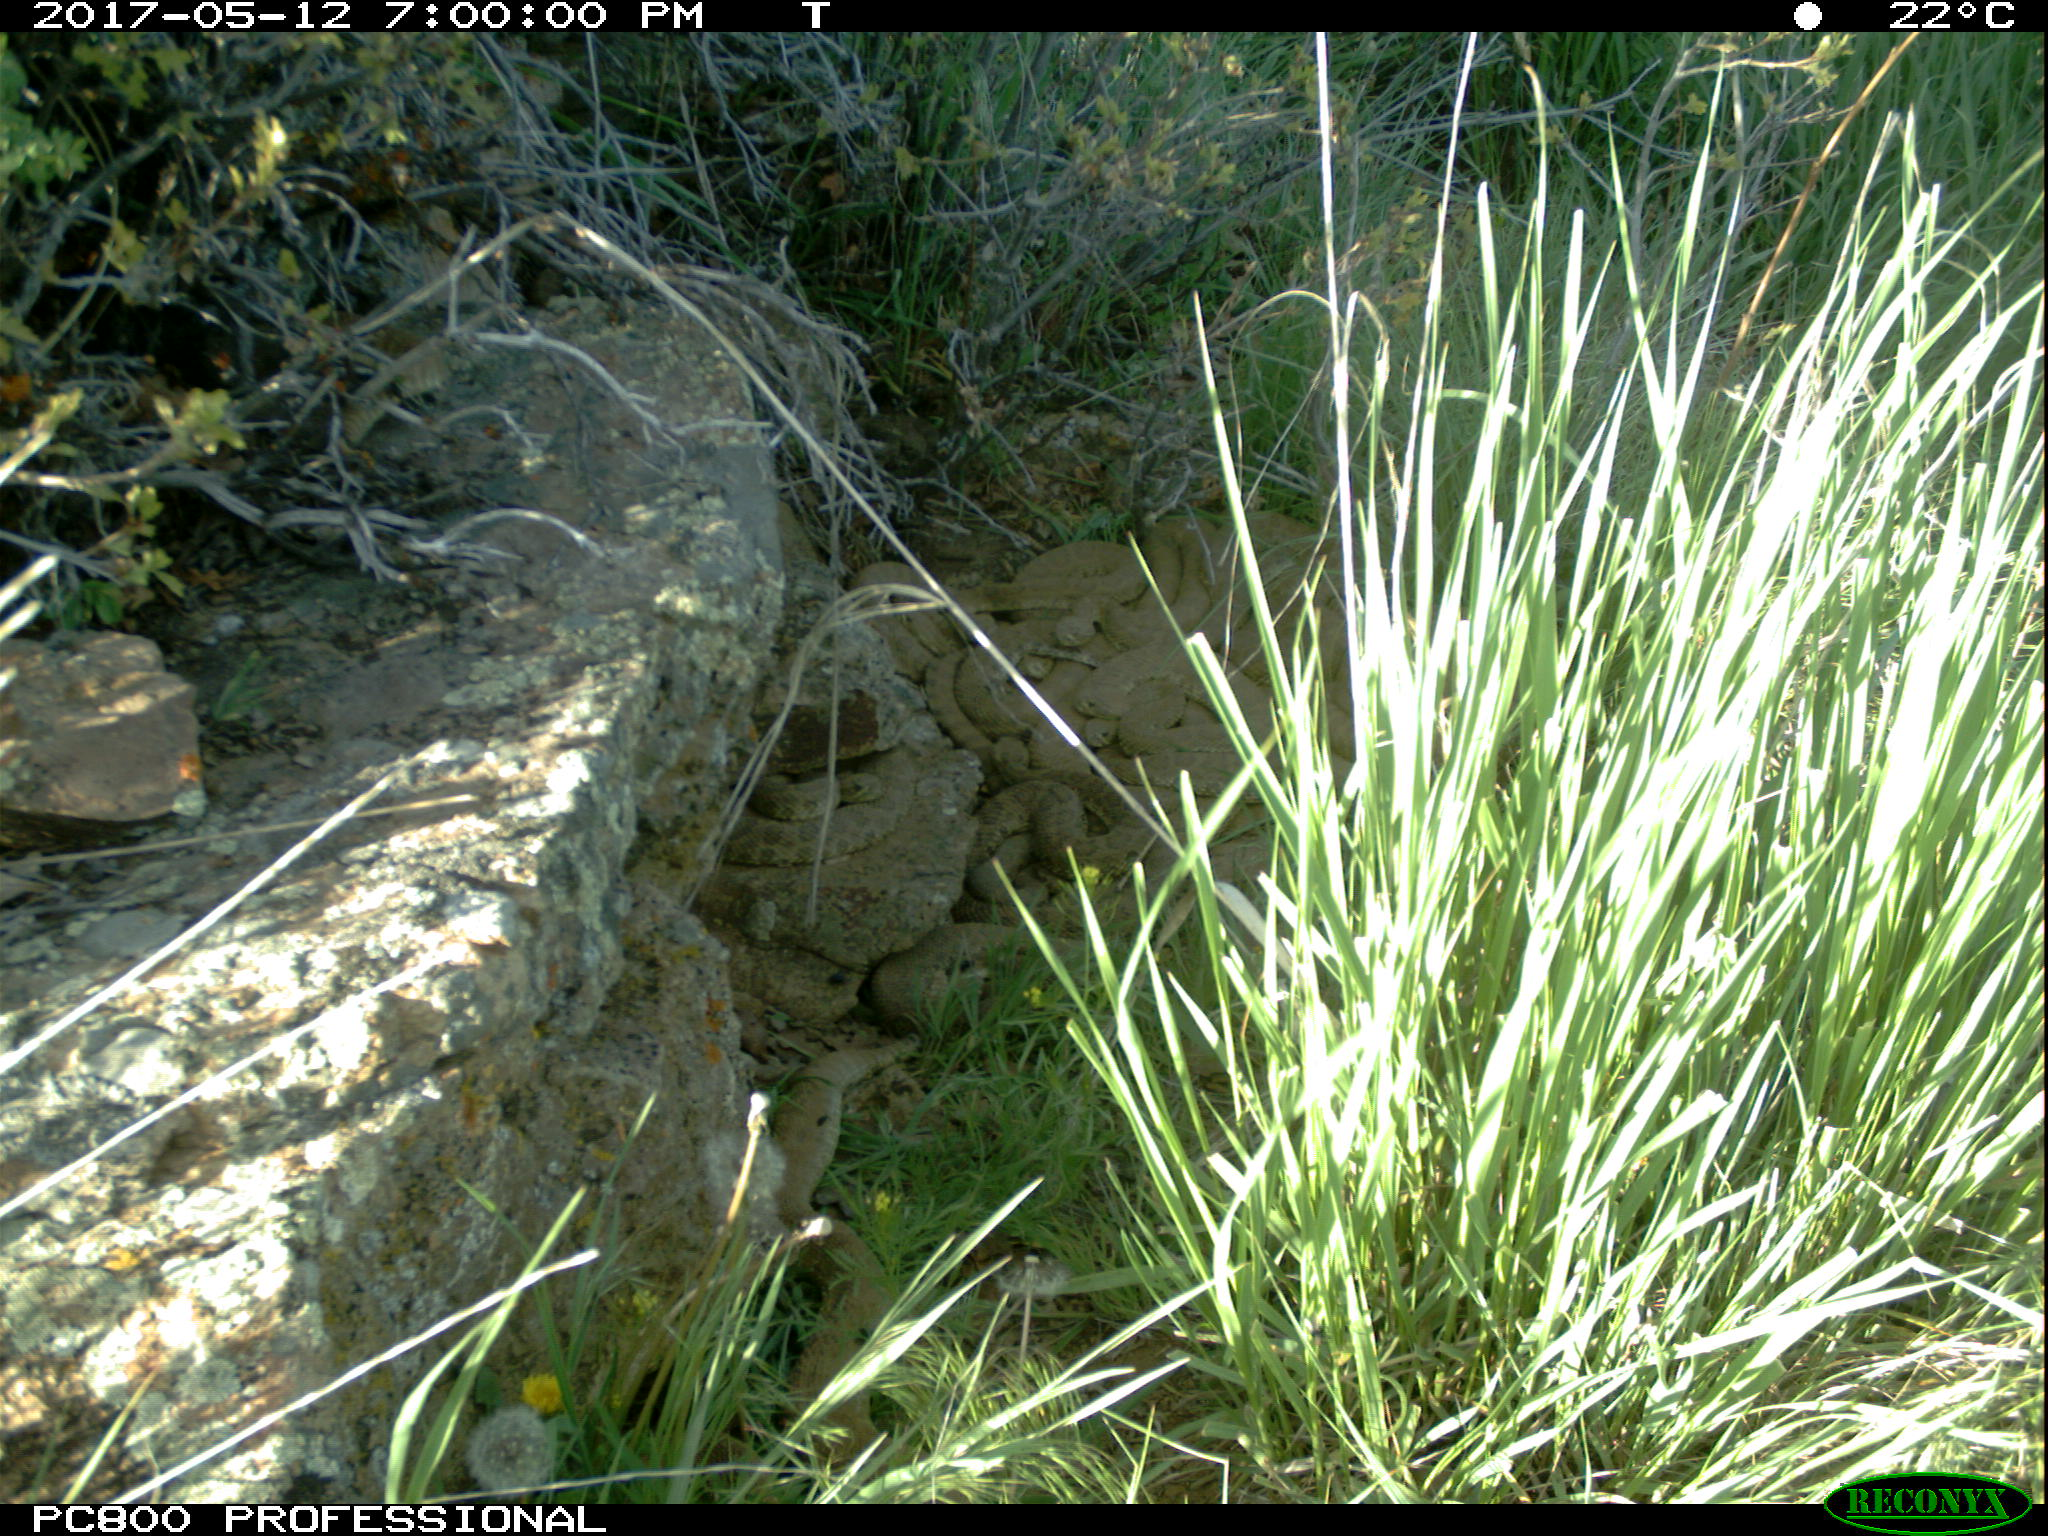snake: (768, 1026, 897, 1459), (1121, 658, 1311, 808), (1163, 516, 1355, 649), (927, 650, 1130, 766), (976, 541, 1161, 662), (963, 771, 1150, 887), (739, 752, 906, 870), (872, 921, 1035, 1016), (850, 561, 961, 674)
